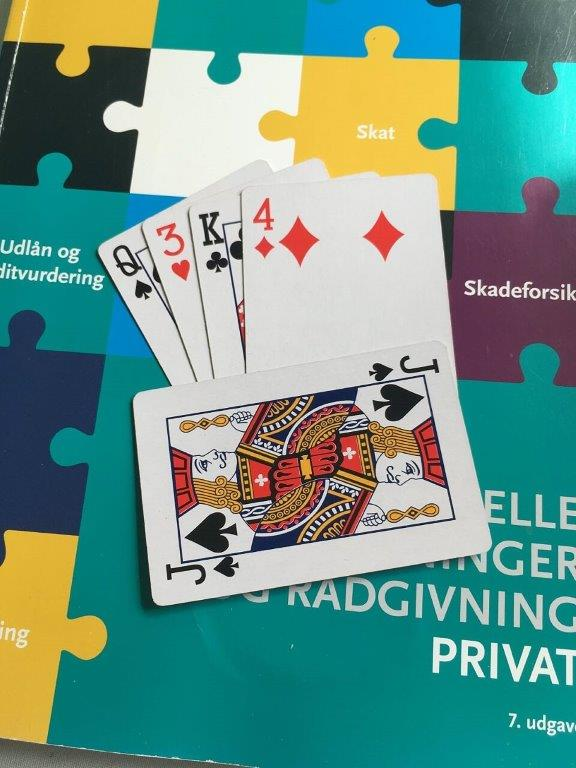3H: (151, 219, 193, 284)
4D: (249, 193, 277, 263)
KC: (195, 207, 232, 276)
QS: (109, 242, 154, 303)
